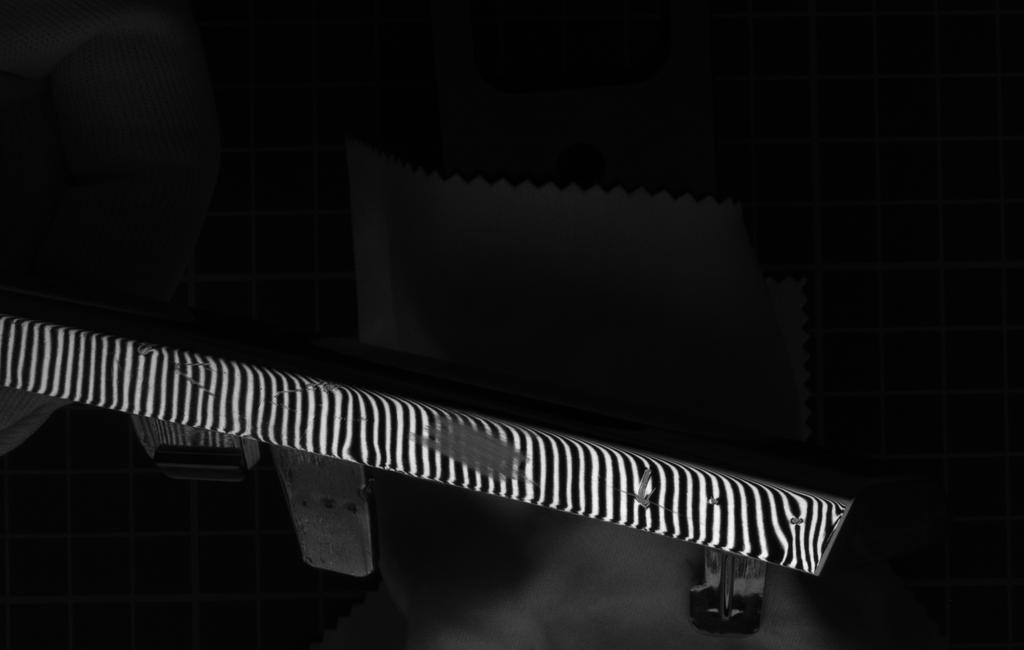Pierced: (133, 338, 162, 364), (782, 507, 811, 532), (702, 491, 732, 513)
Pitting: (394, 403, 544, 503)
Scratch: (262, 373, 348, 426), (162, 350, 227, 413), (626, 461, 659, 521)
